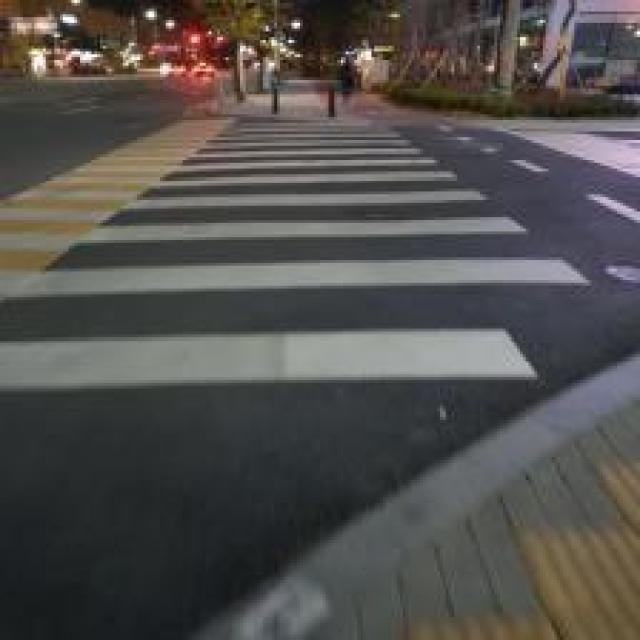crosswalk: (0, 91, 640, 416)
